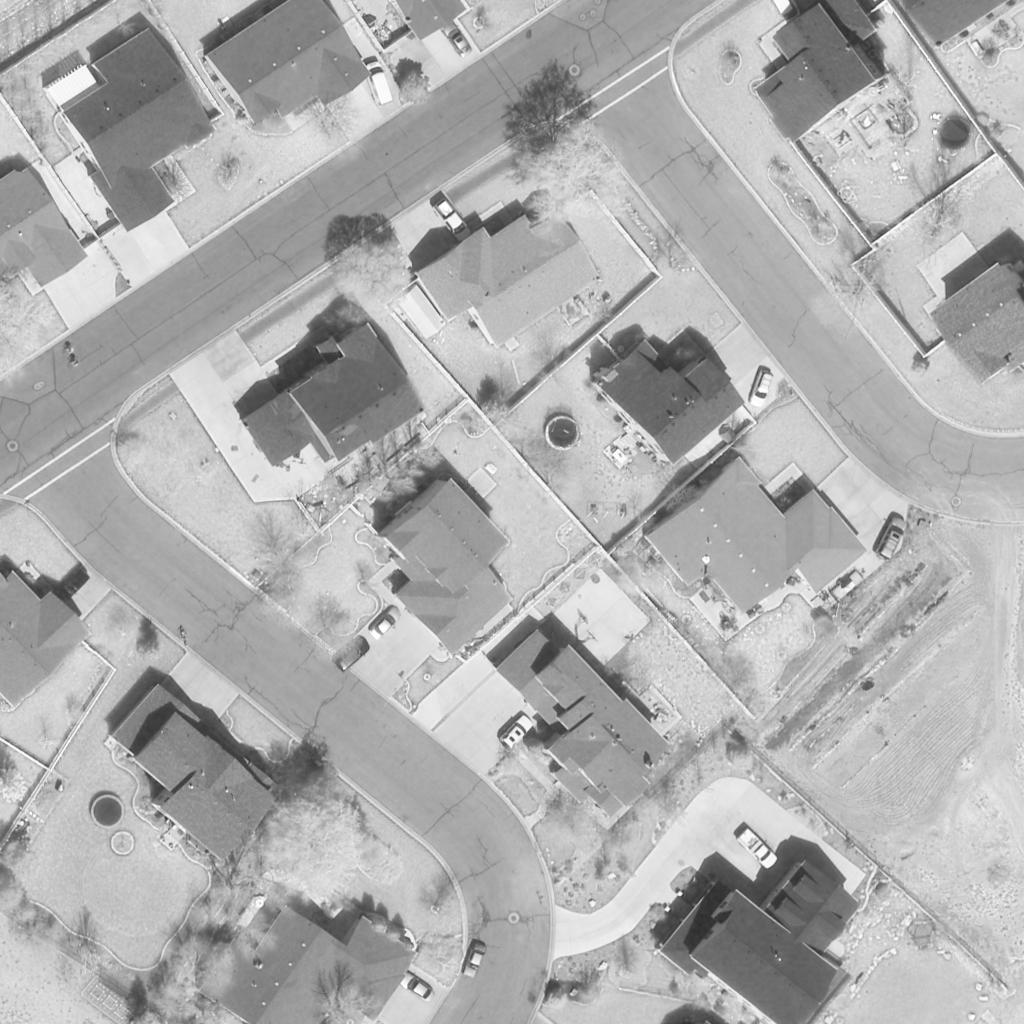vehicle: (734, 826, 776, 872), (432, 198, 472, 244), (875, 517, 911, 565), (493, 716, 537, 752), (54, 567, 94, 605), (333, 634, 371, 674), (365, 604, 405, 640), (438, 21, 476, 57), (363, 63, 395, 105), (396, 974, 436, 1000), (460, 942, 486, 980), (750, 368, 772, 410)
